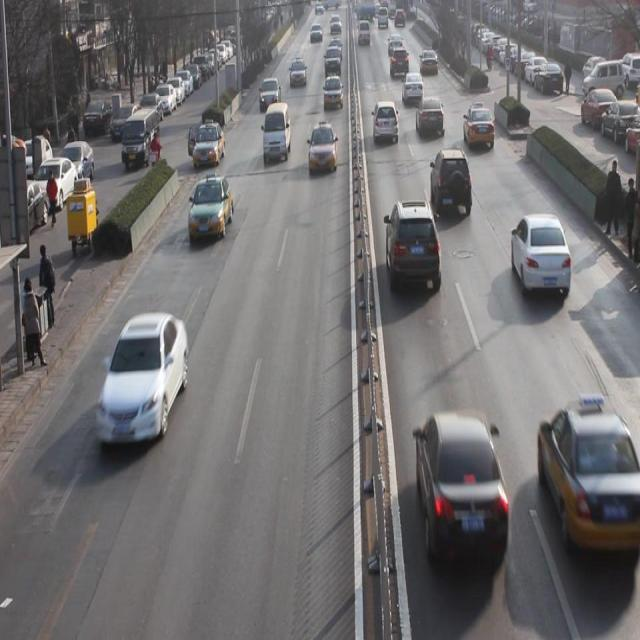car: (414, 413, 512, 564), (539, 402, 629, 559), (99, 319, 187, 444), (385, 199, 442, 298), (510, 212, 572, 298), (432, 146, 474, 219), (188, 177, 232, 240), (463, 102, 496, 149), (308, 122, 338, 172), (192, 123, 225, 165), (371, 99, 398, 145), (416, 95, 446, 134), (322, 75, 343, 109), (259, 77, 282, 108), (403, 71, 423, 103), (290, 57, 307, 86), (324, 46, 341, 73)
truck: (262, 100, 291, 164)
